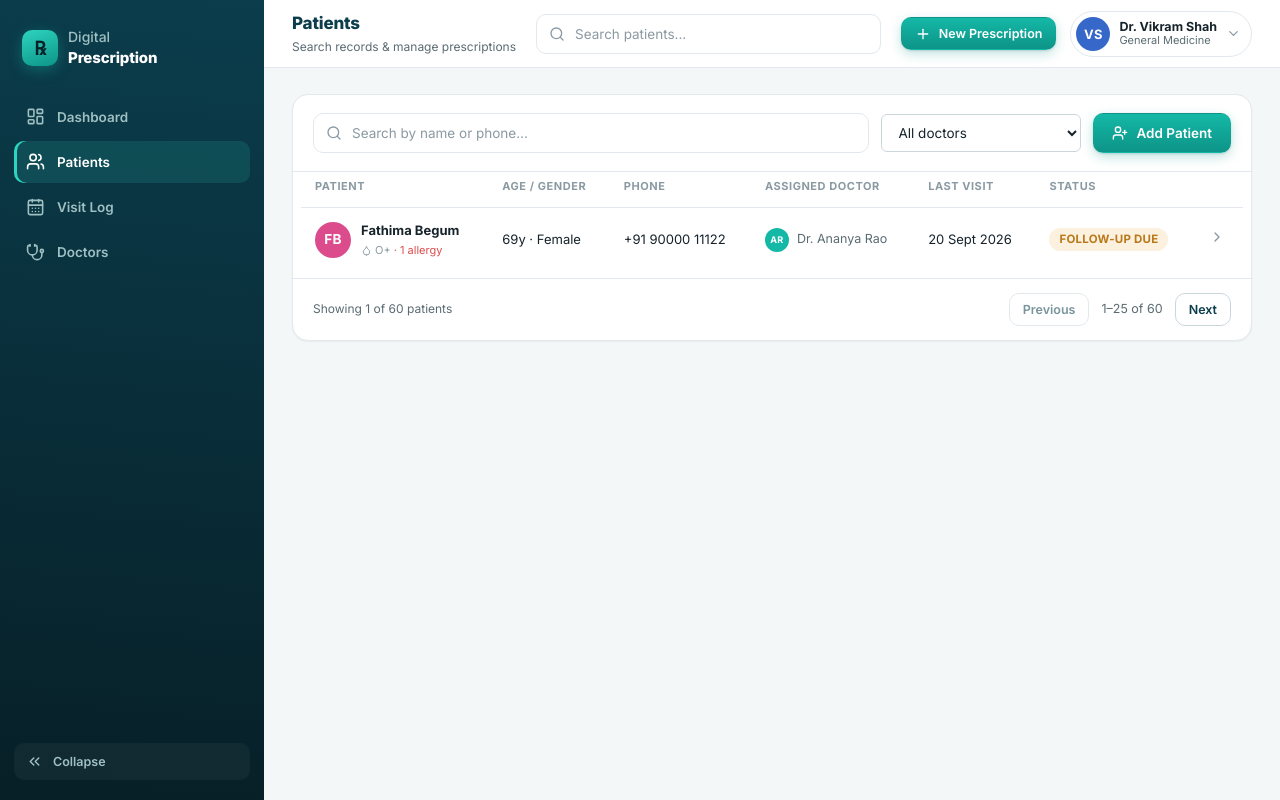
PatientsListPage › pages through results
Click the button "Next". click: click(1203, 309)
box: x1=1175 y1=292 x2=1231 y2=326
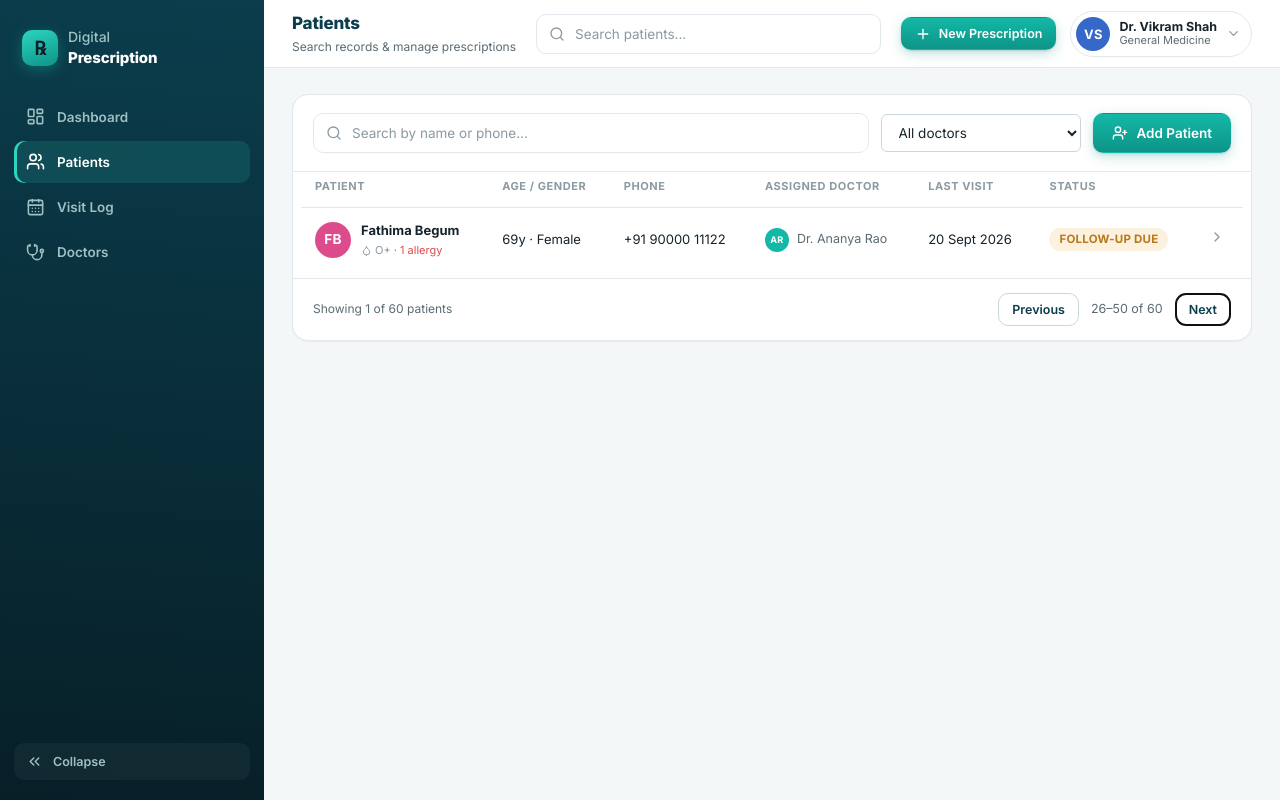
Result: the text "26–50 of 60" is shown at x1=1091 y1=300 x2=1163 y2=318
Click the button "Previous". click: click(1039, 309)
box: x1=998 y1=292 x2=1079 y2=326
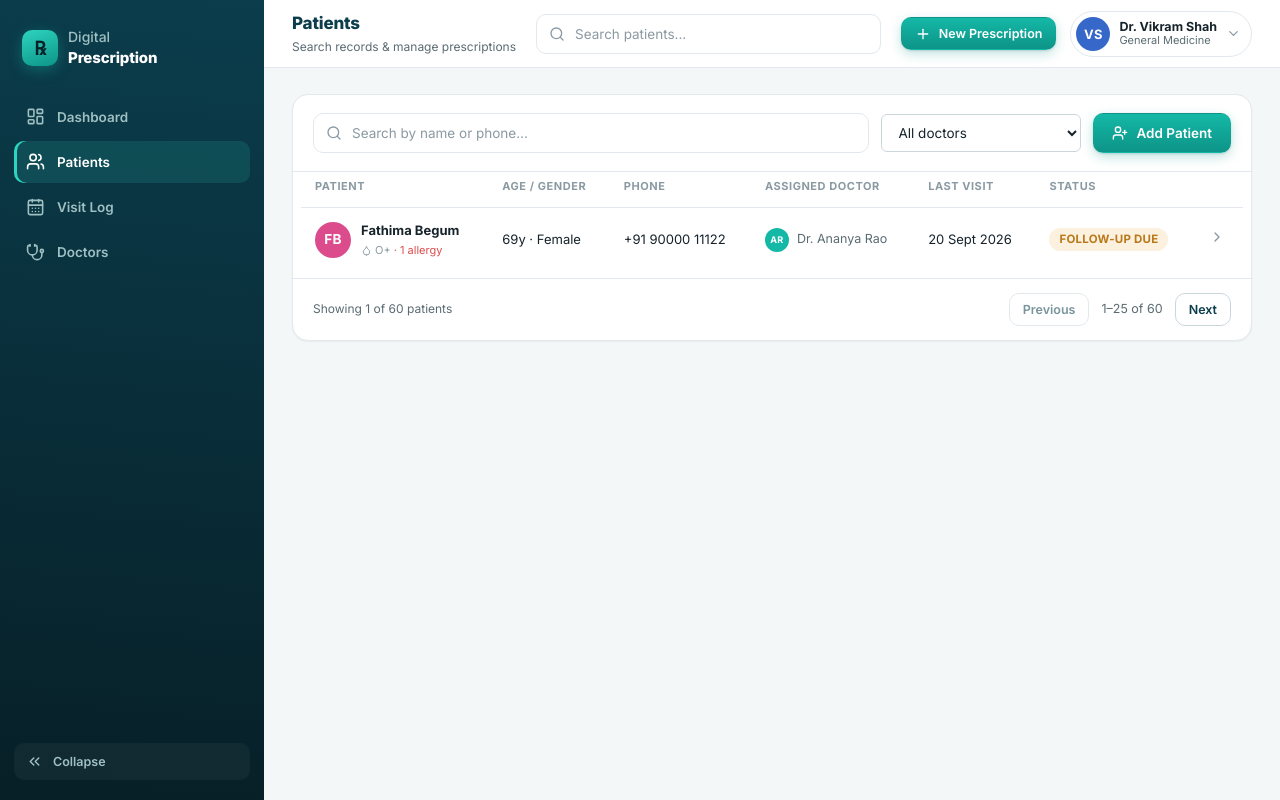
Result: the text "1–25 of 60" is shown at x1=1102 y1=300 x2=1163 y2=318
